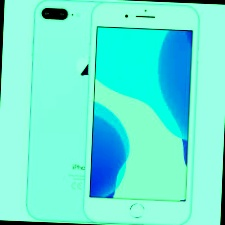iphone: (75, 4, 206, 225)
